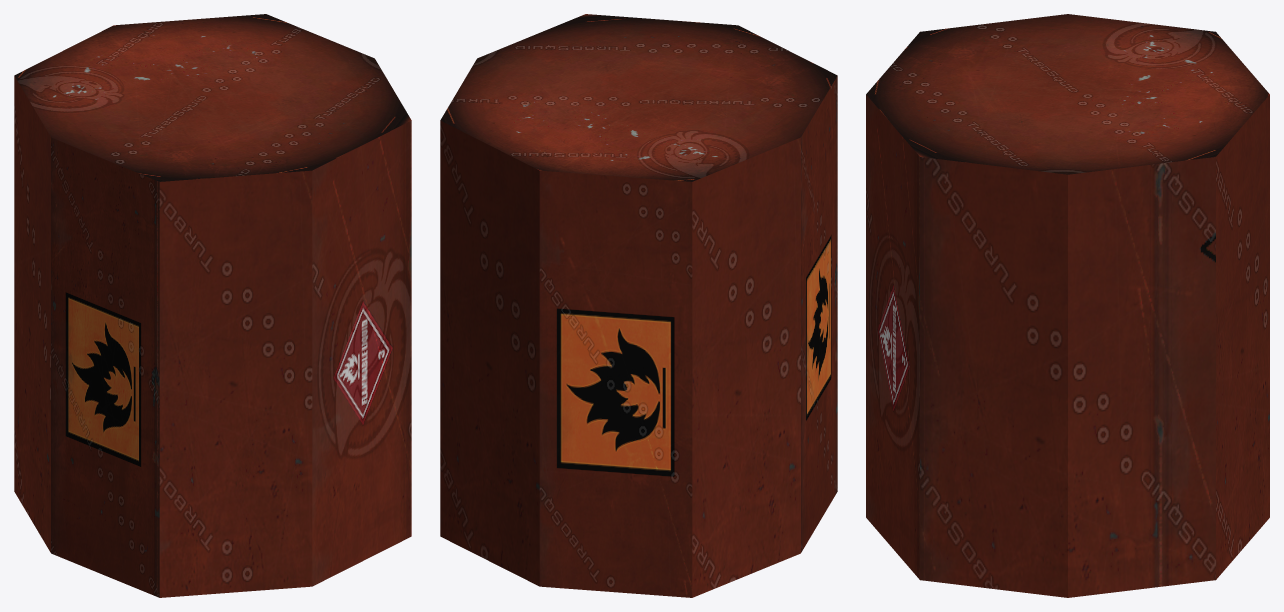
File: barrel.fbx
3 views of the same model, side by side, from view 1: azimuth 30°, elevation 25°; view 2: azimuth 150°, elevation 25°; view 3: azimuth 270°, elevation 25° (orthographic).
Parts seen in each view (by area): view 1: Cube; view 2: Cube; view 3: Cube.
Part boxes in pixels (<box>): Cube: <box>14,14,411,597</box>; Cube: <box>440,14,837,597</box>; Cube: <box>866,14,1269,597</box>.
Bounding box in the file's own units: 257 × 316 × 273.
